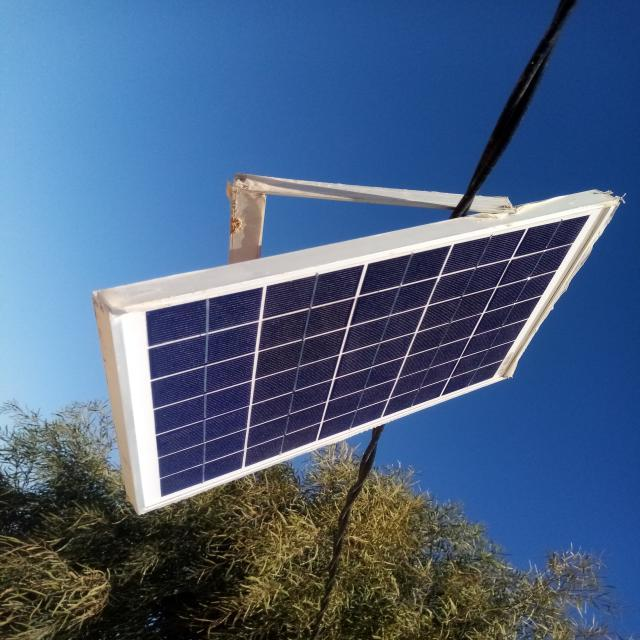no faulty: (121, 205, 613, 509)
